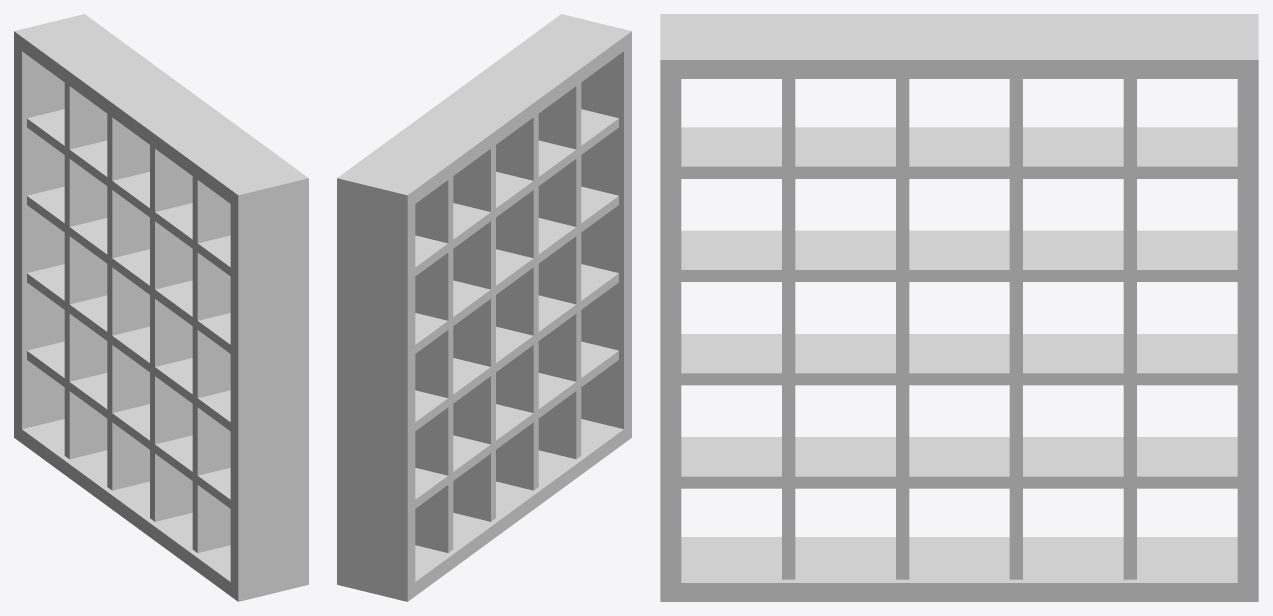
Rendered from Bookshelf big.glb.
The picture shows the model from 3 angles, left to right: view 1: azimuth 30°, elevation 25°; view 2: azimuth 150°, elevation 25°; view 3: azimuth 270°, elevation 25°; orthographic projection. The views are drawn at different scales.
Visible parts, largest first — view 1: Shelf; view 2: Shelf; view 3: Shelf.
Boxes of the visible parts, x1,y1,x2,y2 form: Shelf: [14, 14, 308, 601]; Shelf: [337, 14, 631, 601]; Shelf: [660, 14, 1258, 601].
Bounding box in the file's own units: 18.14 × 100 × 100.
Materials: 1 (1 with a texture image).
